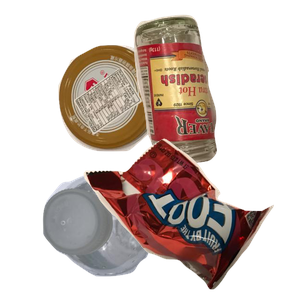glass: (131, 12, 300, 170)
metal: (56, 43, 211, 187)
plastic: (40, 170, 187, 300)
trash: (81, 136, 300, 300)
